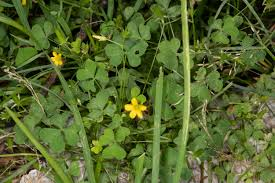clover: (39, 114, 81, 153), (75, 58, 109, 93), (99, 126, 131, 160)
yellow wood sorrel: (123, 98, 147, 120), (49, 50, 63, 66)
